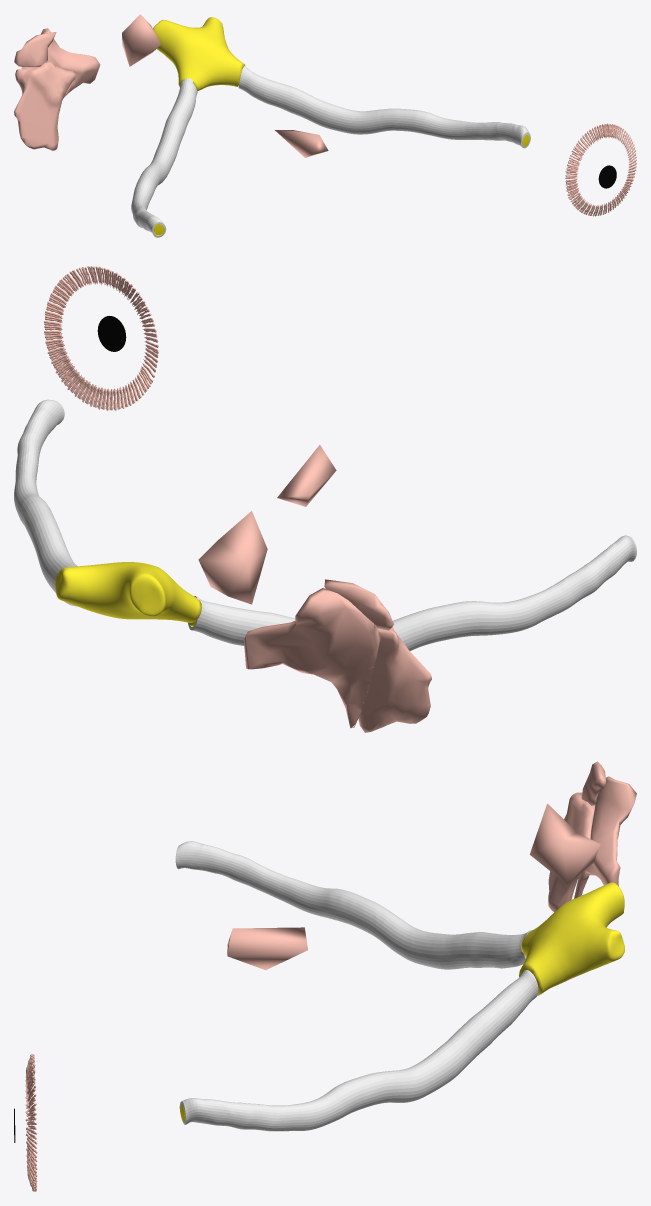
Rendered from female-a-organ-0bb.glb.
3 views of the same model, one above another, from view 1: azimuth 30°, elevation 25°; view 2: azimuth 150°, elevation 25°; view 3: azimuth 270°, elevation 25° (orthographic). The views are drawn at different scales.
Visible parts, largest first — view 1: VH_F_dura_mater_left, VH_F_optic_chiasm, Allen_temporal_agranular_insular_cortex_area_Tl_L, VH_F_dura_mater_right, VH_F_ciliary_processes_L, Allen_piriform_region_L, Allen_anterior_olfactory_nucleus_L, Allen_frontal_agranular_insular_cortex_area_Fl_L, Allen_olfactory_bulb_L, VH_F_pupil_L; view 2: VH_F_dura_mater_right, Allen_piriform_region_L, VH_F_optic_chiasm, VH_F_ciliary_processes_L, VH_F_dura_mater_left, Allen_temporal_agranular_insular_cortex_area_Tl_L, Allen_anterior_olfactory_nucleus_L, Allen_olfactory_bulb_L, Allen_frontal_agranular_insular_cortex_area_Fl_L, VH_F_pupil_L; view 3: VH_F_dura_mater_left, VH_F_dura_mater_right, VH_F_optic_chiasm, Allen_piriform_region_L, Allen_anterior_olfactory_nucleus_L, Allen_olfactory_bulb_L, Allen_temporal_agranular_insular_cortex_area_Tl_L, VH_F_ciliary_processes_L, Allen_frontal_agranular_insular_cortex_area_Fl_L.
Part boxes in pixels (<box>): VH_F_dura_mater_left: <box>238,66,530,148</box>; VH_F_optic_chiasm: <box>153,17,245,90</box>; Allen_temporal_agranular_insular_cortex_area_Tl_L: <box>14,61,75,150</box>; VH_F_dura_mater_right: <box>131,78,197,237</box>; VH_F_ciliary_processes_L: <box>565,123,636,216</box>; Allen_piriform_region_L: <box>21,28,100,97</box>; Allen_anterior_olfactory_nucleus_L: <box>122,14,161,66</box>; Allen_frontal_agranular_insular_cortex_area_Fl_L: <box>14,32,56,67</box>; Allen_olfactory_bulb_L: <box>275,130,328,157</box>; VH_F_pupil_L: <box>598,165,616,188</box>; VH_F_dura_mater_right: <box>188,535,636,650</box>; Allen_piriform_region_L: <box>244,588,381,728</box>; VH_F_optic_chiasm: <box>55,562,201,622</box>; VH_F_ciliary_processes_L: <box>44,266,158,410</box>; VH_F_dura_mater_left: <box>14,399,77,606</box>; Allen_temporal_agranular_insular_cortex_area_Tl_L: <box>358,626,431,732</box>; Allen_anterior_olfactory_nucleus_L: <box>198,511,267,604</box>; Allen_olfactory_bulb_L: <box>277,445,336,506</box>; Allen_frontal_agranular_insular_cortex_area_Fl_L: <box>324,579,393,630</box>; VH_F_pupil_L: <box>97,316,126,351</box>; VH_F_dura_mater_left: <box>179,970,538,1131</box>; VH_F_dura_mater_right: <box>175,841,532,969</box>; VH_F_optic_chiasm: <box>519,882,624,995</box>; Allen_piriform_region_L: <box>574,776,636,898</box>; Allen_anterior_olfactory_nucleus_L: <box>530,803,600,884</box>; Allen_olfactory_bulb_L: <box>227,927,307,970</box>; Allen_temporal_agranular_insular_cortex_area_Tl_L: <box>548,792,595,912</box>; VH_F_ciliary_processes_L: <box>25,1054,37,1191</box>; Allen_frontal_agranular_insular_cortex_area_Fl_L: <box>581,761,606,805</box>.
Bounding box in the file's own units: 0.0659 × 0.0196 × 0.0578.
